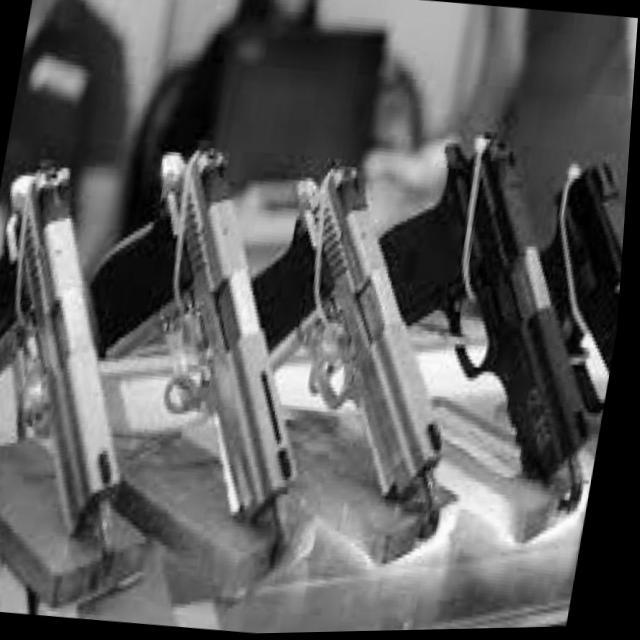weapon: (337, 106, 634, 486), (94, 145, 356, 552), (214, 146, 491, 528), (0, 157, 183, 582), (512, 153, 632, 420)
